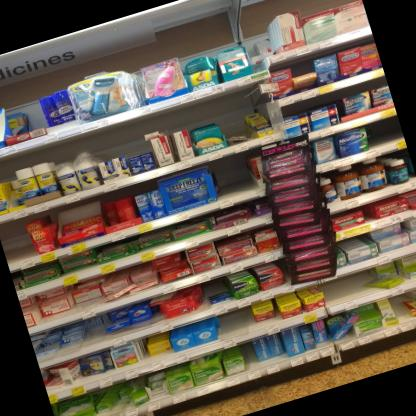empty_space: (214, 157, 259, 201), (0, 224, 38, 267), (324, 273, 367, 308), (218, 309, 251, 342), (369, 117, 404, 148)
